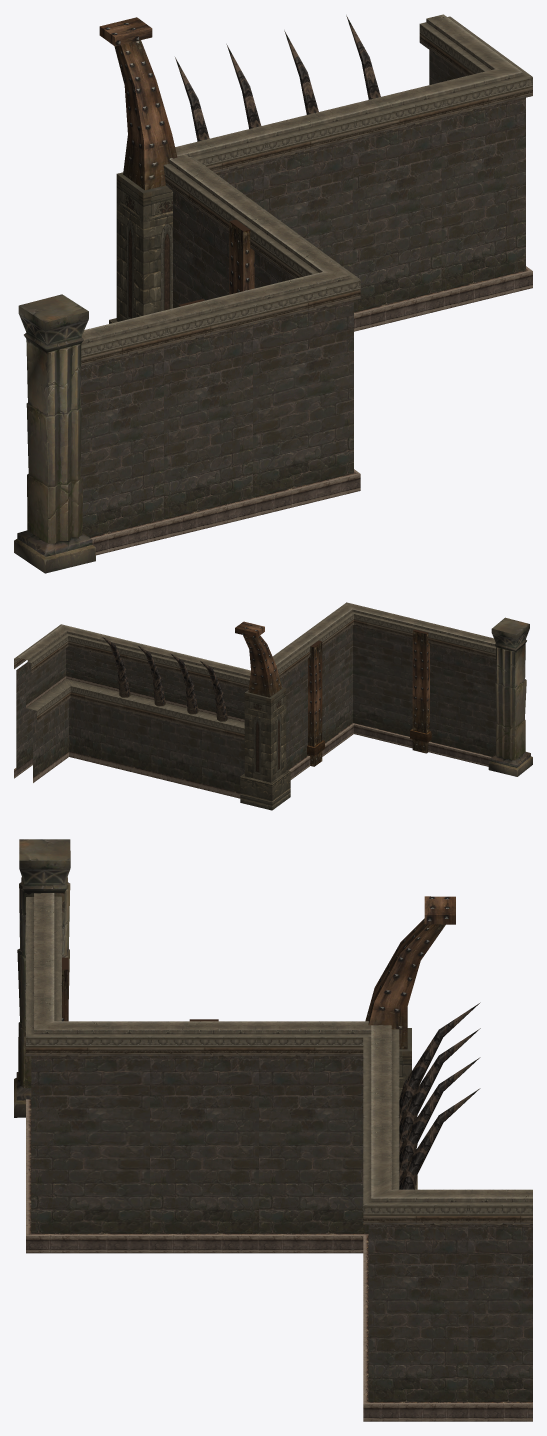
Rendered from blsd_weiqiang_2.FBX.
3 renders of one model, top to bottom at view 1: azimuth 30°, elevation 25°; view 2: azimuth 150°, elevation 25°; view 3: azimuth 270°, elevation 25°, orthographic. The views are drawn at different scales.
Parts seen in each view (by area): view 1: blsd_weiqiang_04, blsd_weiqiang_03; view 2: blsd_weiqiang_04, blsd_weiqiang_03; view 3: blsd_weiqiang_04, blsd_weiqiang_03.
Boxes of the visible parts, left/top/right/bottom form: blsd_weiqiang_04: left=80, top=14, right=532, bottom=555; blsd_weiqiang_03: left=14, top=15, right=380, bottom=573; blsd_weiqiang_04: left=14, top=602, right=496, bottom=798; blsd_weiqiang_03: left=102, top=617, right=532, bottom=810; blsd_weiqiang_04: left=26, top=893, right=532, bottom=1421; blsd_weiqiang_03: left=14, top=839, right=480, bottom=1189.
Bounding box in the file's own units: 1521 × 1011 × 712.
